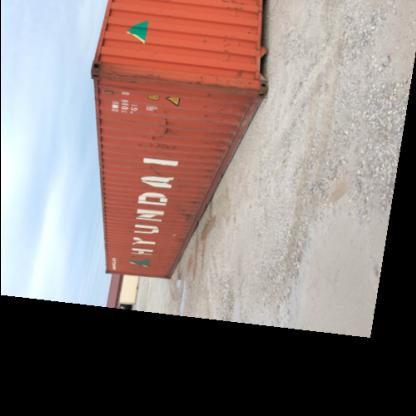Damage: (191, 67, 252, 124), (89, 63, 161, 100), (138, 110, 178, 158), (202, 134, 232, 176), (175, 196, 199, 227), (142, 166, 166, 177), (191, 32, 209, 46)
